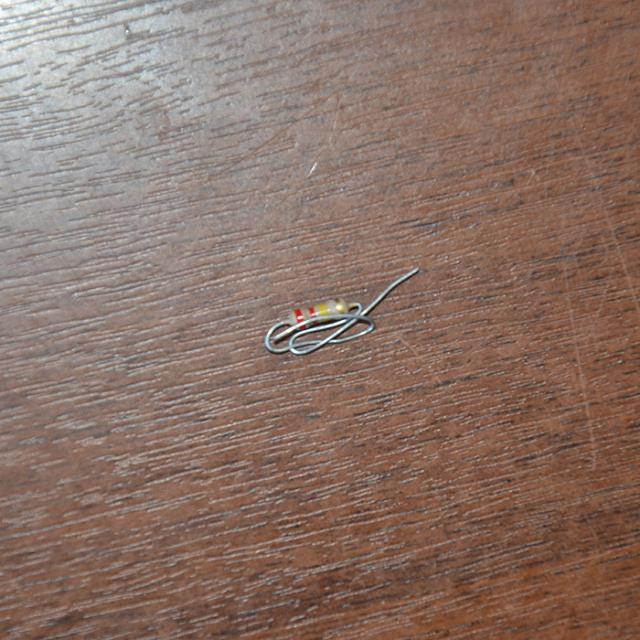gold: (335, 298, 343, 314)
red: (294, 309, 304, 324), (309, 305, 317, 318)
resistor: (281, 289, 361, 336)
yellow: (318, 304, 327, 316)
